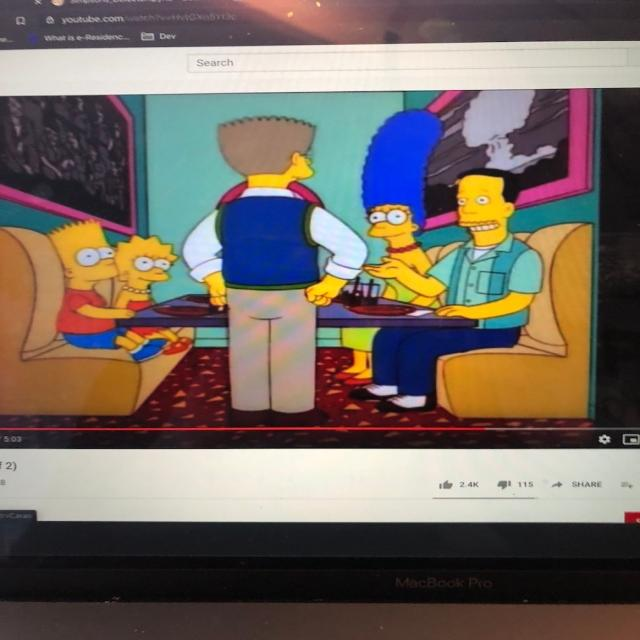Bart Simpson: (45, 216, 124, 294)
Lisa Simpson: (110, 231, 180, 297)
Marge Simpson: (356, 105, 448, 258)
